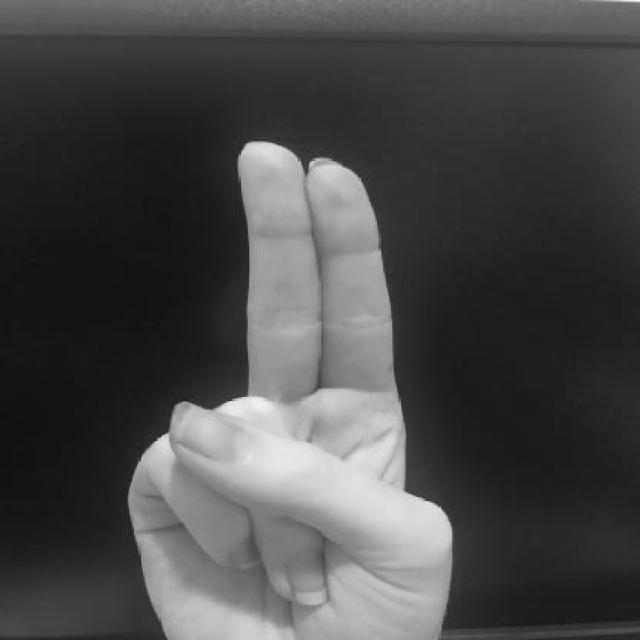U: (119, 137, 465, 638)
